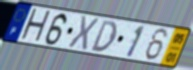1: (125, 25, 146, 60)
6: (43, 12, 69, 47), (144, 28, 168, 62)
D: (90, 19, 119, 53)
H: (18, 7, 53, 45)
X: (65, 14, 101, 52)
